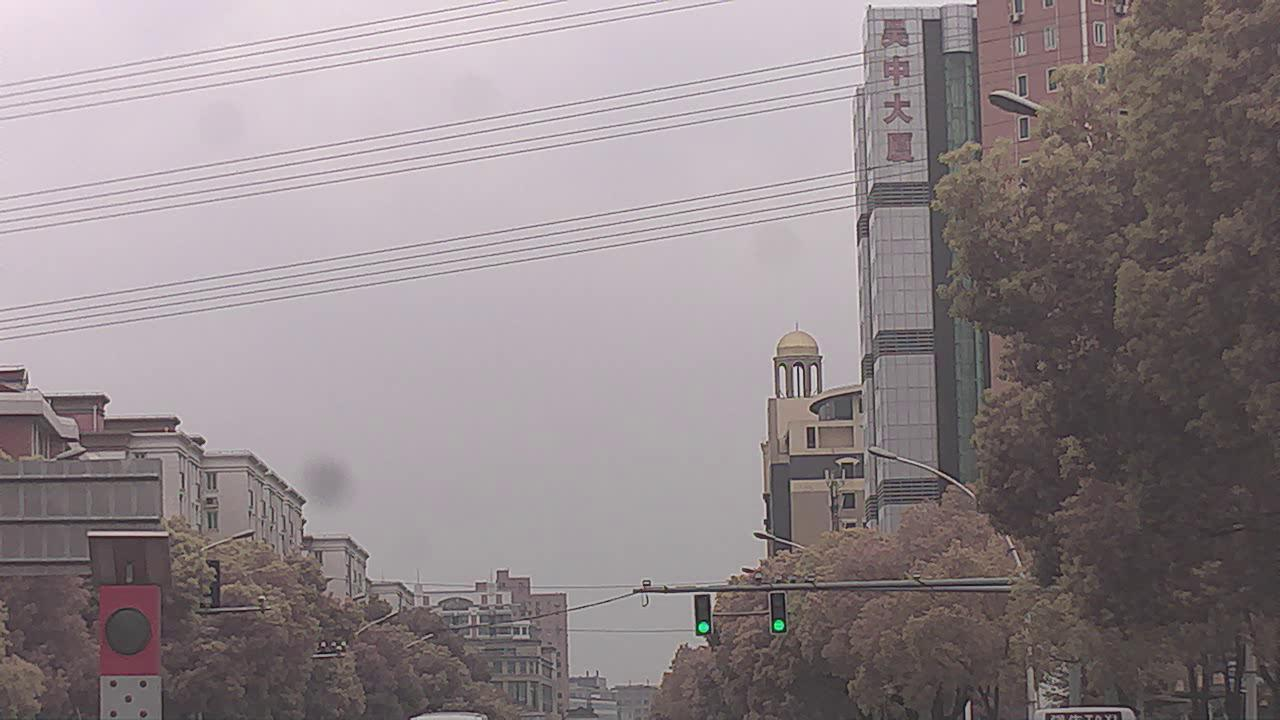traffic_light: (693, 593, 712, 635), (769, 594, 788, 636)
